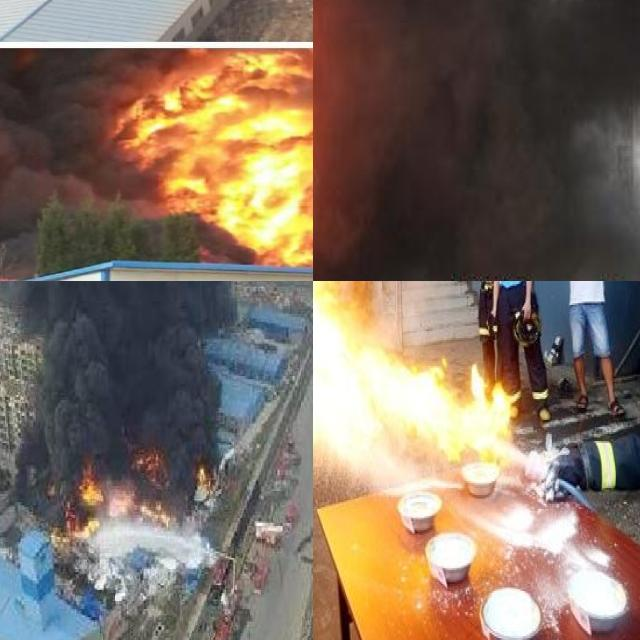fire: (118, 48, 313, 270), (313, 281, 517, 486), (57, 443, 169, 534), (195, 459, 212, 491)
smoke: (313, 0, 640, 281), (32, 334, 218, 475), (0, 51, 121, 194), (0, 281, 236, 345)
